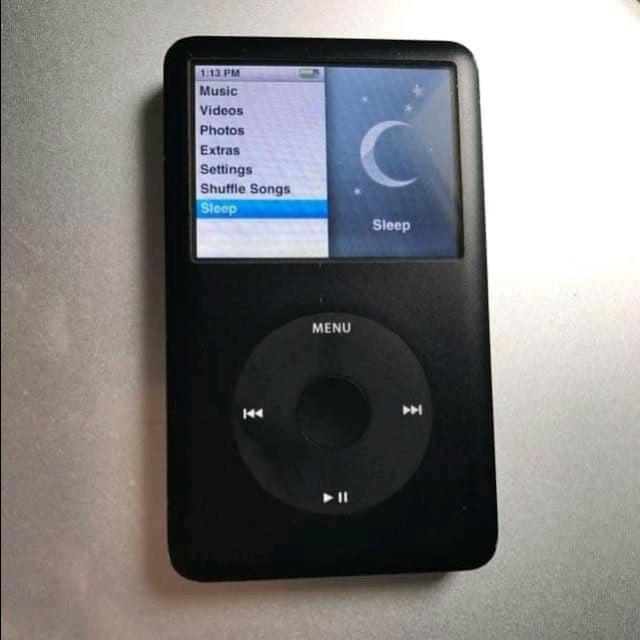Music-Player: (150, 21, 508, 598)
